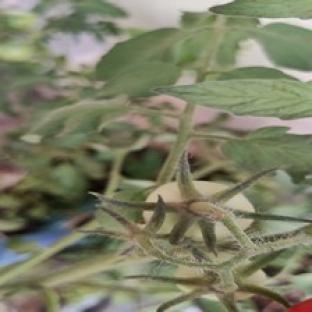Tomato: (147, 183, 183, 201), (176, 267, 204, 278), (287, 299, 311, 311)
